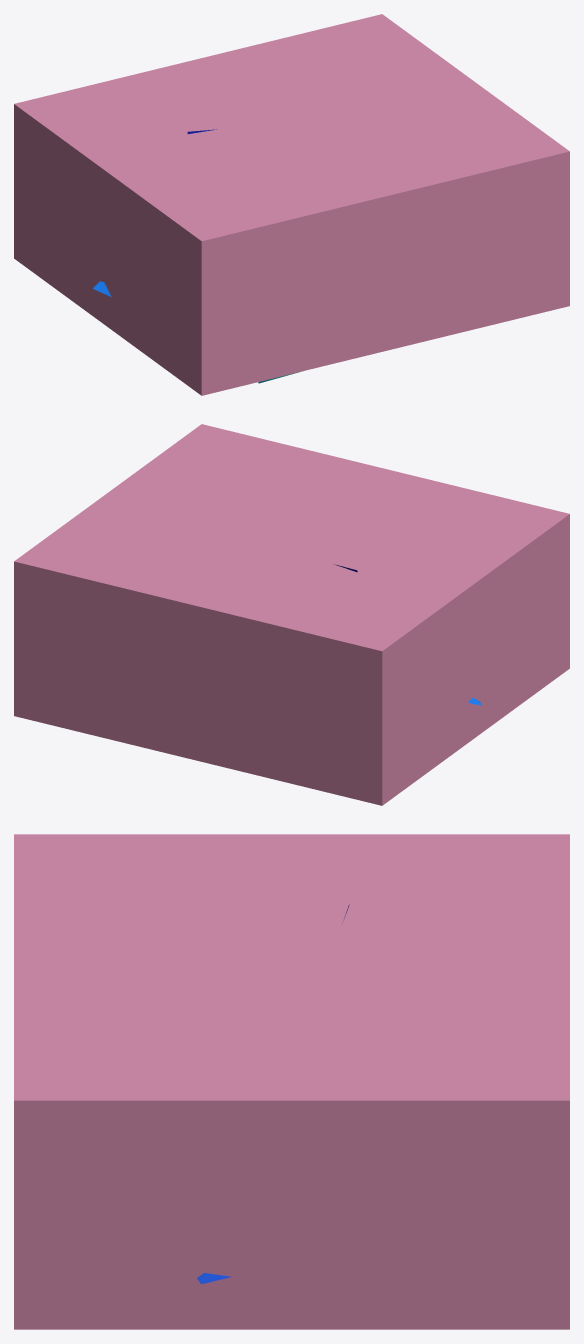
The model's file is vine_bush_small.dae.
The picture shows the model from 3 angles, top to bottom: view 1: azimuth 30°, elevation 25°; view 2: azimuth 150°, elevation 25°; view 3: azimuth 270°, elevation 25°; orthographic projection. The views are drawn at different scales.
Parts seen in each view (by area): view 1: Untitled; view 2: Untitled; view 3: Untitled.
Part boxes in pixels (<box>): Untitled: <box>14,14,569,395</box>; Untitled: <box>14,424,569,805</box>; Untitled: <box>14,834,569,1329</box>.
Size of the model in its own units: 1.29 by 1.09 by 0.5507.
